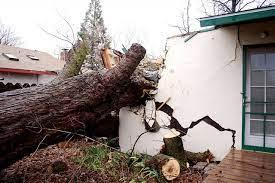Downstairs: (1, 38, 151, 142)
